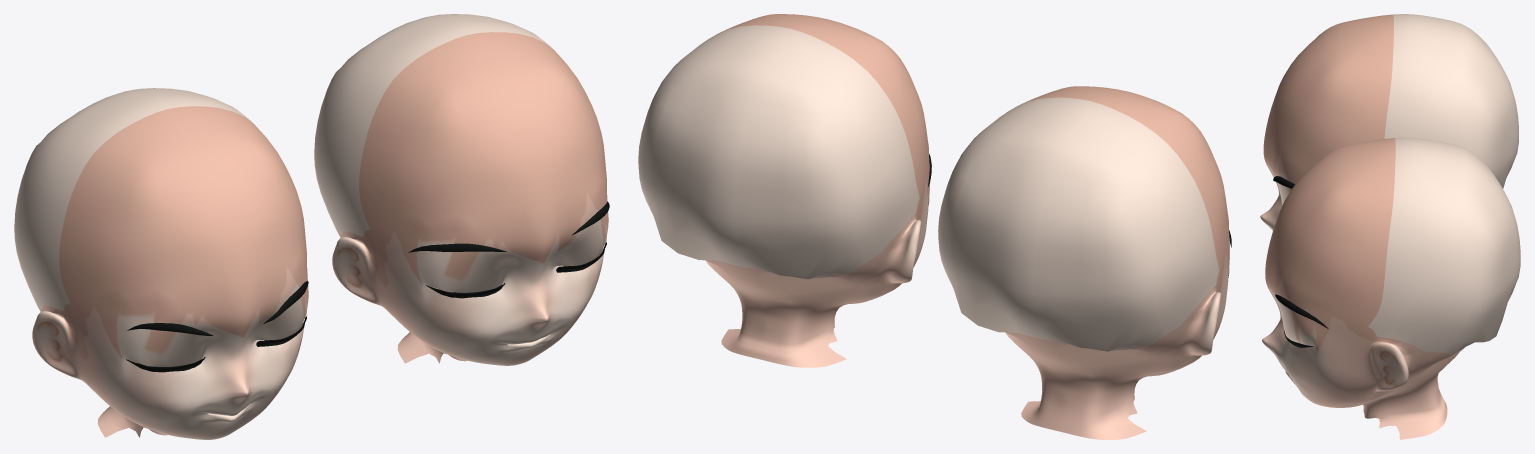
3 renders of one model, left to right at view 1: azimuth 30°, elevation 25°; view 2: azimuth 150°, elevation 25°; view 3: azimuth 270°, elevation 25°, orthographic. The views are drawn at different scales.
Parts seen in each view (by area): view 1: x8, x, x4, x5, x3, x6; view 2: x, x8; view 3: x8, x, x5.
Part boxes in pixels (bbox=[...]): x8: bbox=[314, 14, 608, 365]; x: bbox=[14, 88, 308, 439]; x4: bbox=[126, 281, 308, 335]; x5: bbox=[408, 201, 609, 252]; x3: bbox=[126, 316, 306, 372]; x6: bbox=[426, 242, 606, 298]; x: bbox=[938, 86, 1229, 439]; x8: bbox=[638, 14, 930, 367]; x8: bbox=[1262, 137, 1520, 439]; x: bbox=[1260, 14, 1518, 230]; x5: bbox=[1275, 294, 1328, 328].
Size of the model in its own units: 77.62 by 41.85 by 37.08.
